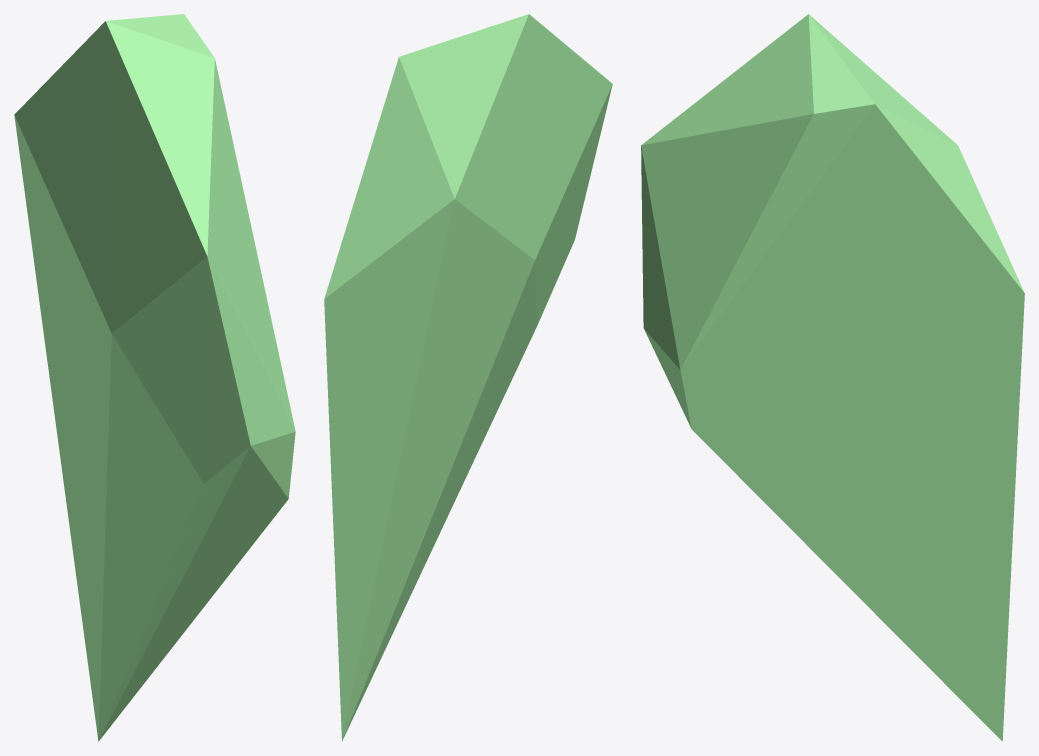
File: linkhou_LR4_R560_link7_respondable_coll_13.dae
3 views of the same model, side by side, from view 1: azimuth 30°, elevation 25°; view 2: azimuth 150°, elevation 25°; view 3: azimuth 270°, elevation 25° (orthographic). The views are drawn at different scales.
Visible parts, largest first — view 1: Node_00000209DB3AA2F0; view 2: Node_00000209DB3AA2F0; view 3: Node_00000209DB3AA2F0.
Part boxes in pixels (x1=…): Node_00000209DB3AA2F0: x1=14, y1=14, x2=295, y2=741; Node_00000209DB3AA2F0: x1=324, y1=14, x2=612, y2=741; Node_00000209DB3AA2F0: x1=641, y1=14, x2=1024, y2=741.
Bounding box in the file's own units: 0.00535 × 0.0355 × 0.0181.
